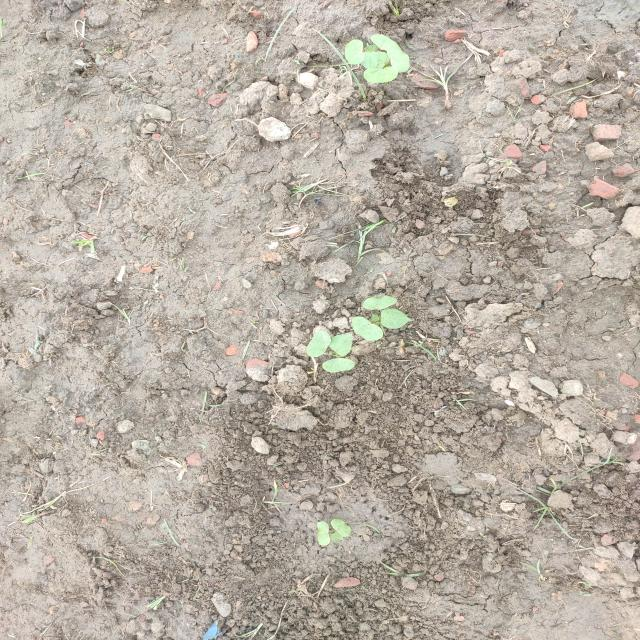seedling_s4: (352, 316, 383, 341), (386, 44, 410, 72), (381, 308, 413, 329), (306, 331, 331, 357), (364, 66, 399, 83), (329, 333, 352, 356), (345, 40, 365, 65), (322, 358, 355, 373), (363, 296, 397, 310), (371, 34, 398, 50), (331, 519, 351, 537), (360, 51, 379, 69), (317, 521, 330, 545), (376, 51, 390, 69), (330, 531, 343, 541)
